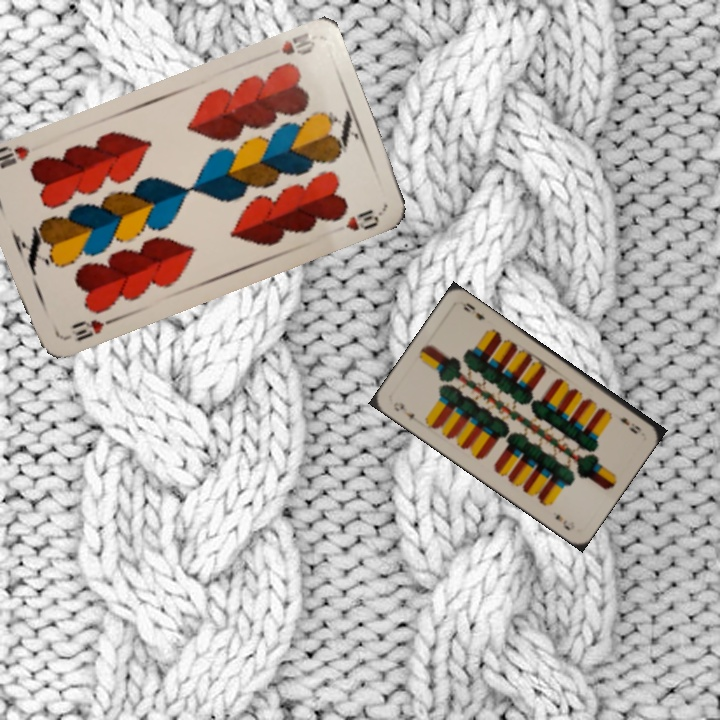E9: (389, 398, 417, 422), (615, 414, 644, 436)
H10: (67, 314, 117, 344), (277, 28, 318, 58)
